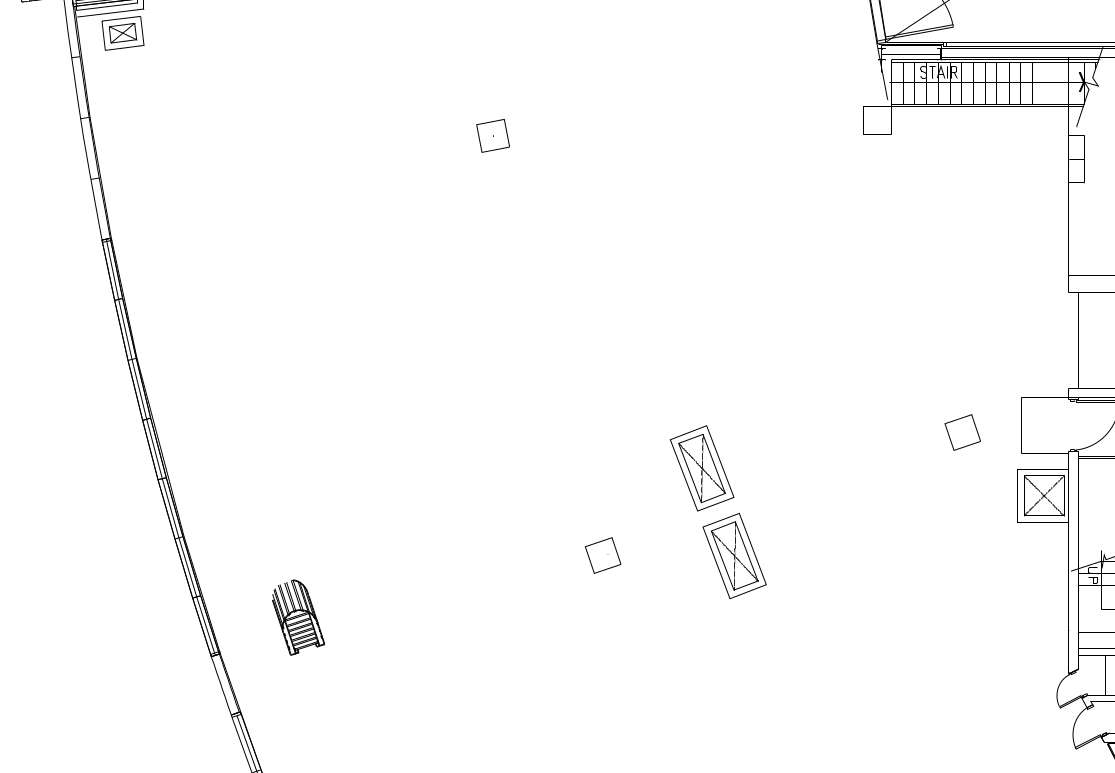door: (1053, 664, 1091, 711), (1068, 705, 1106, 752)
